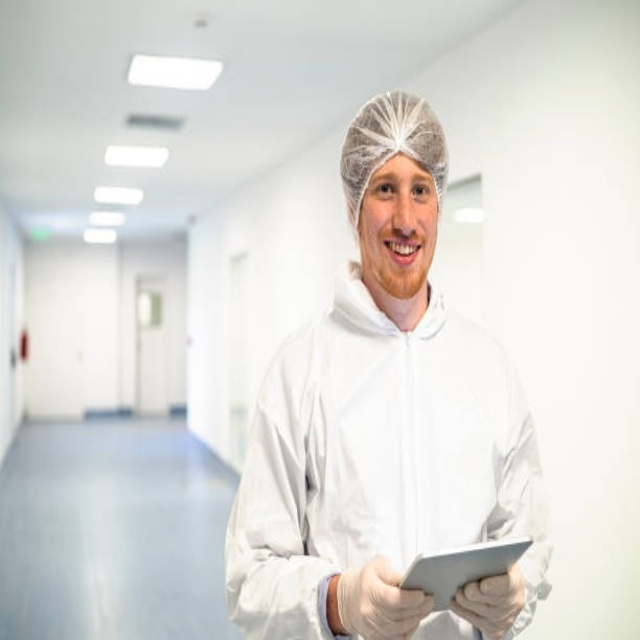Guantes: (335, 554, 436, 640), (450, 563, 527, 639)
Sin_gafas: (373, 169, 433, 211)
Sin_mascara: (381, 228, 428, 283)
